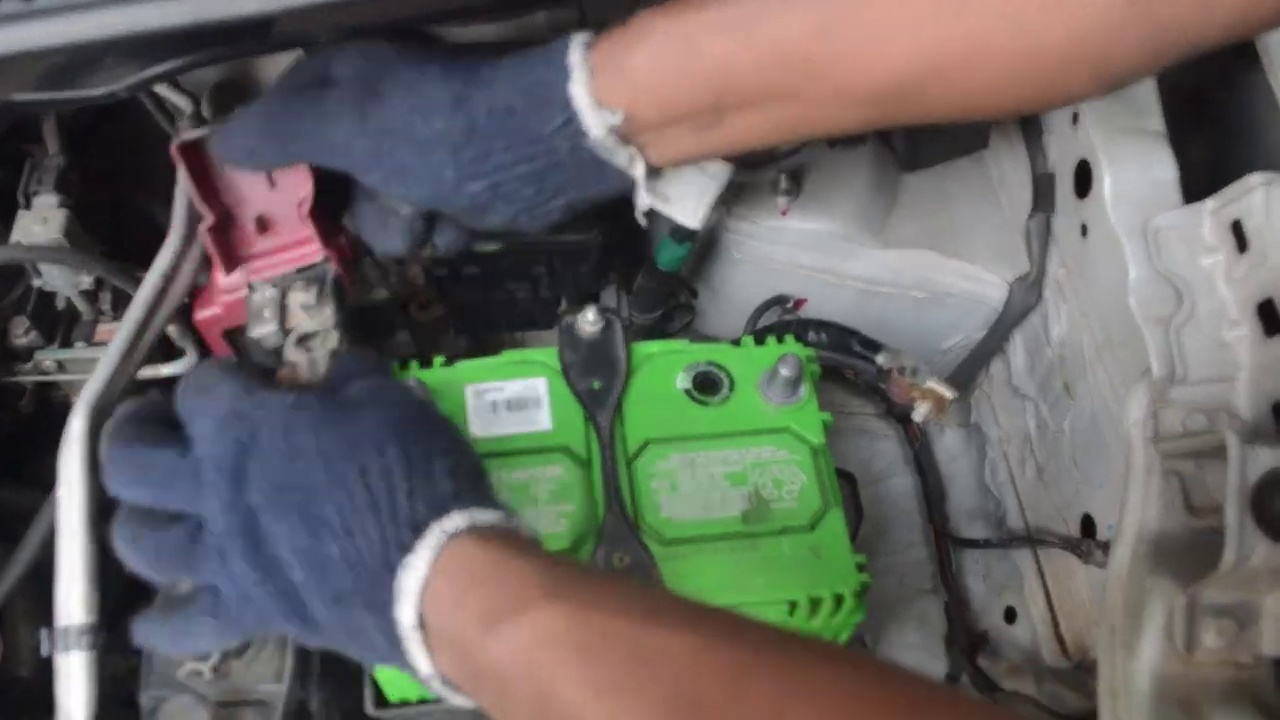battery: (353, 345, 865, 633)
neg_disconnected: (730, 321, 841, 417)
pos_touched: (188, 133, 484, 459)
